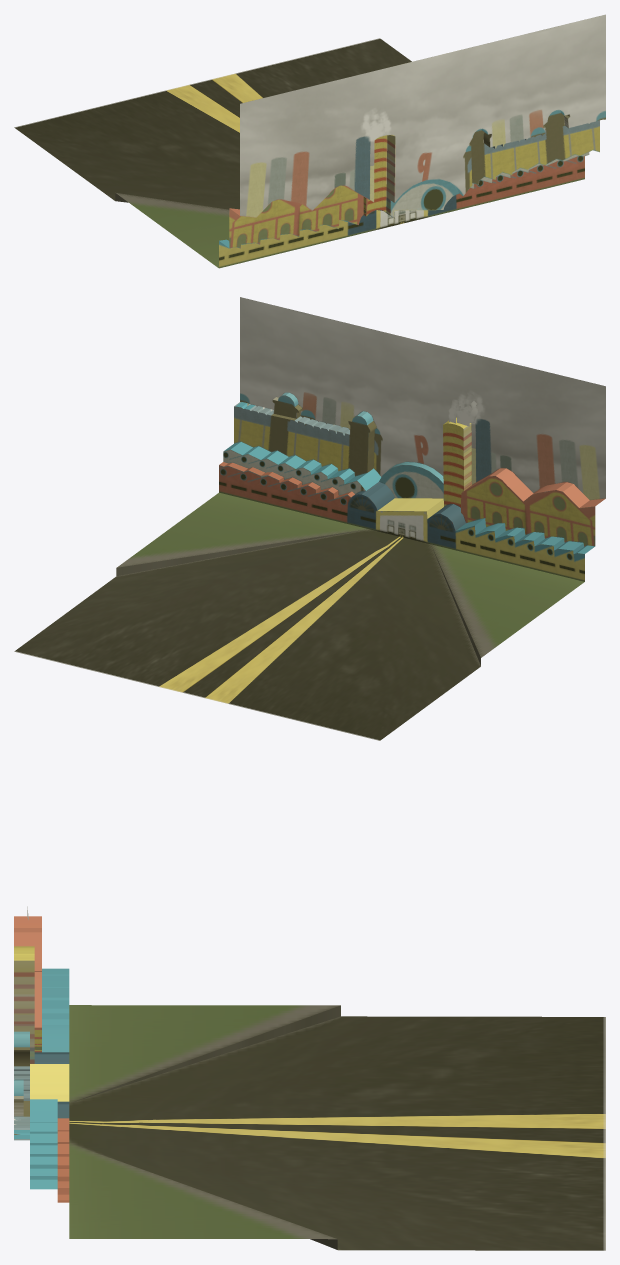
The model's file is san5.fbx.
The picture shows the model from 3 angles, top to bottom: view 1: azimuth 30°, elevation 25°; view 2: azimuth 150°, elevation 25°; view 3: azimuth 270°, elevation 25°; orthographic projection. The views are drawn at different scales.
Visible parts, largest first — view 1: Plane.003; view 2: Plane.003; view 3: Plane.003.
Part boxes in pixels (x1,y1,x2,y2): Plane.003: (14,14,605,268); Plane.003: (14,297,605,740); Plane.003: (14,906,605,1250).
Size of the model in its own units: 4216 by 2083 by 4511.
